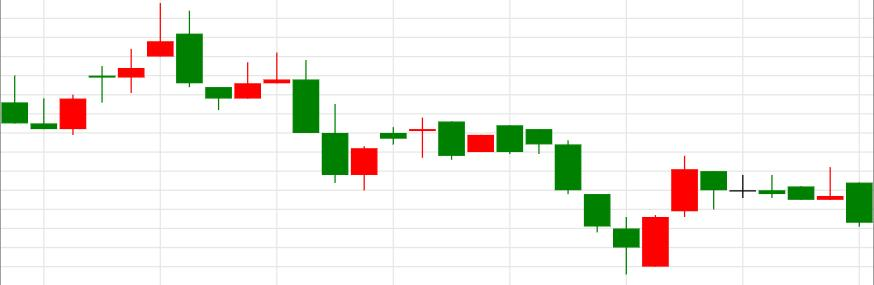bullish_engulfing_rise: (437, 120, 670, 274)
